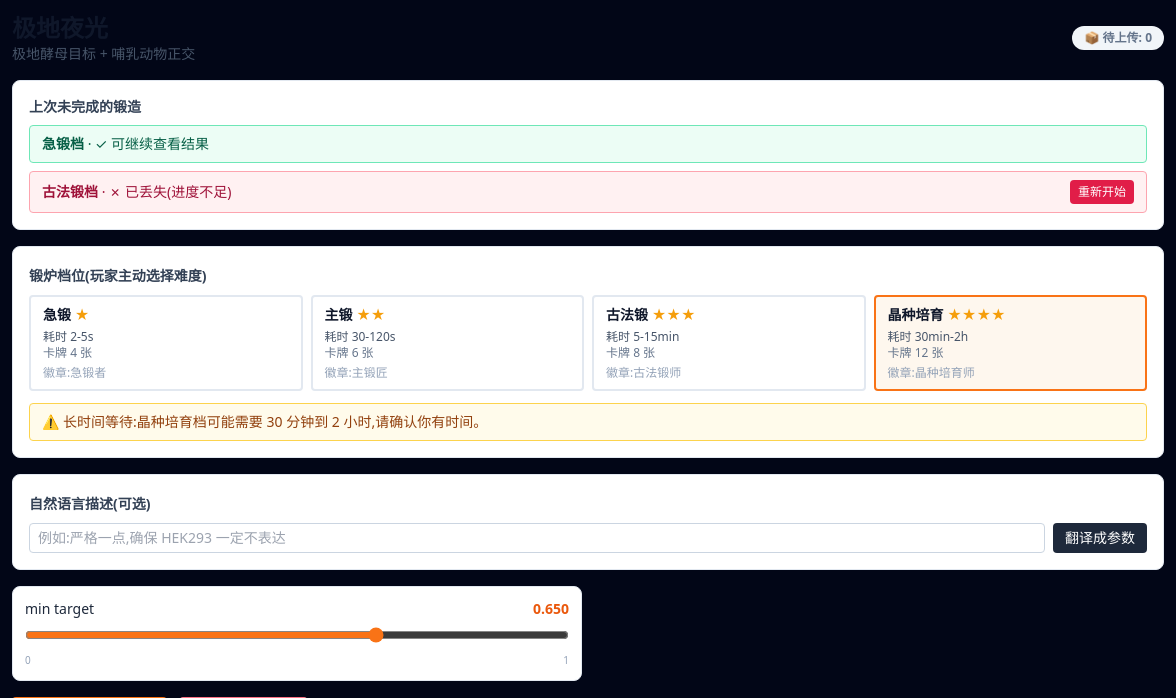
Test case: ForgePage · ritual warning › hides warning when switching back to urgent
Expected: the button with test id "ritual-option-crystal" is shown, [874,295,1147,391]
Expected: the message "⚠️ 长时间等待:晶种培育档可能需要 30 分钟到 2 小时,请确认你有时间。" is shown, [29,403,1147,441]
切到 urgent
Click the button with test id "ritual-option-urgent": [88, 372] box [29,295,302,391]
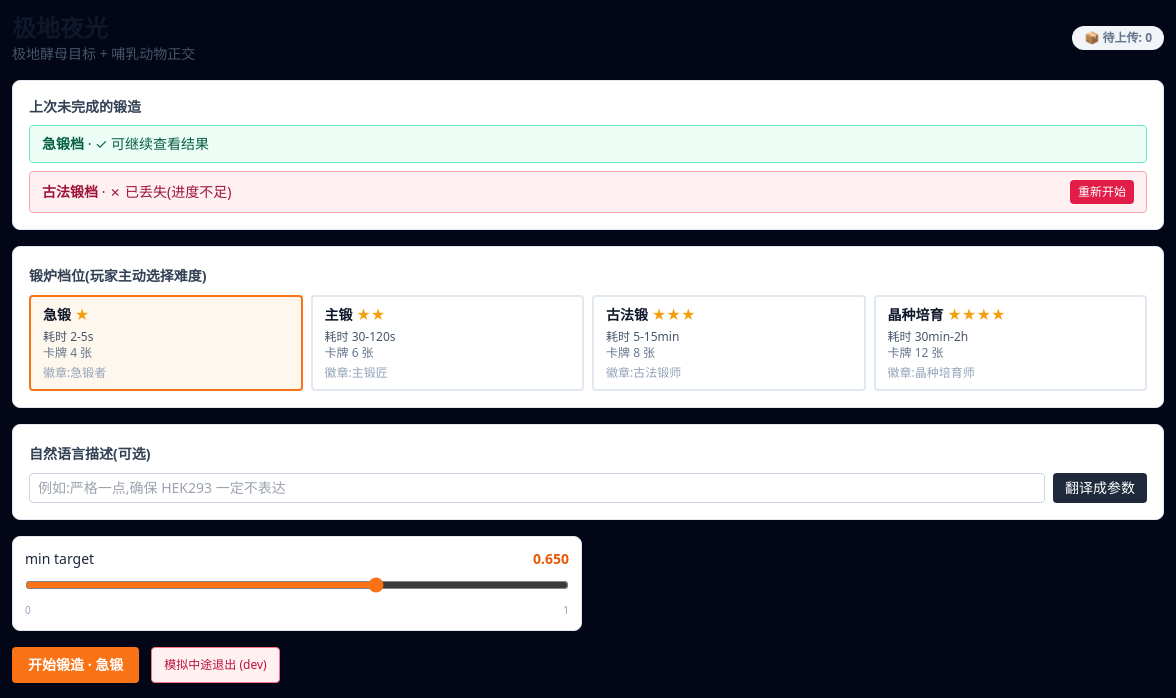
Now the message with test id "ritual-warning" is gone
